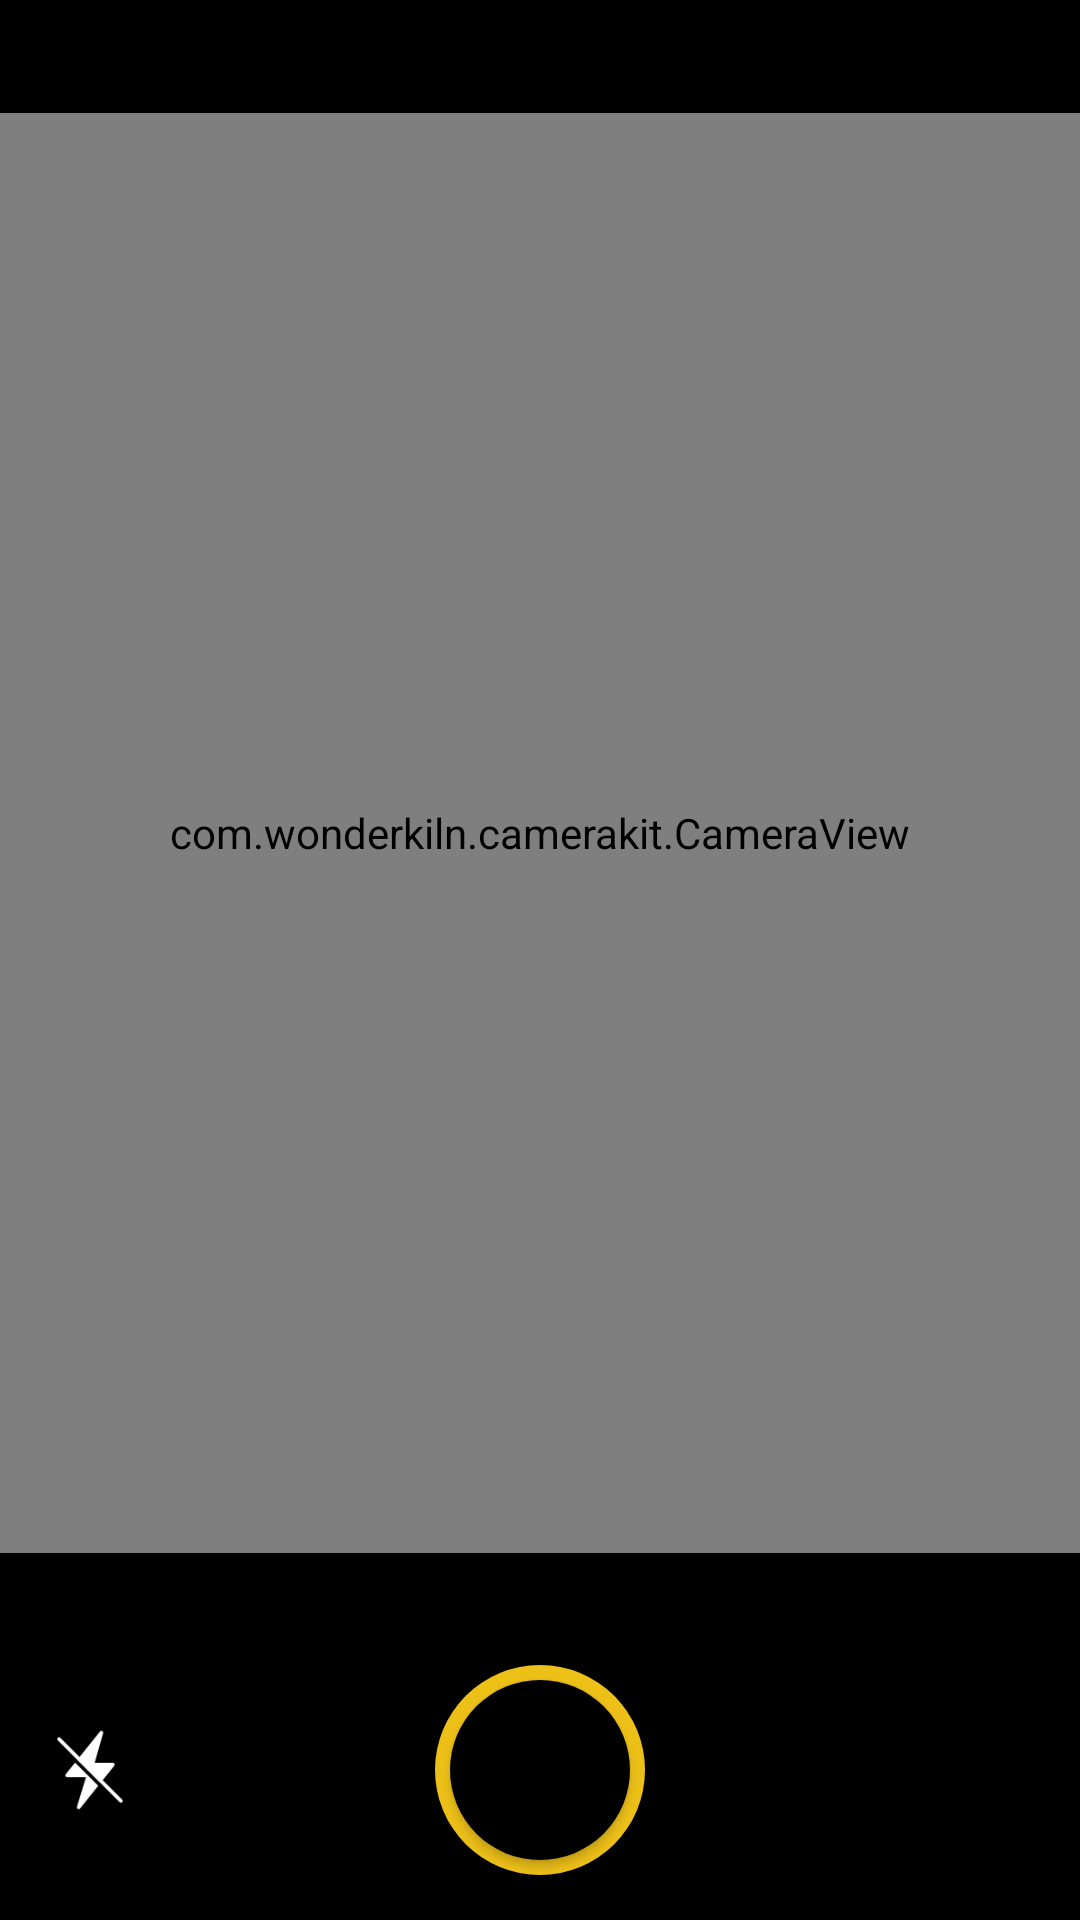

Where to tap for icons on this 1080 x 1920 app screen, as (x=x, y=y):
flashoff: (x=90, y=1770)
